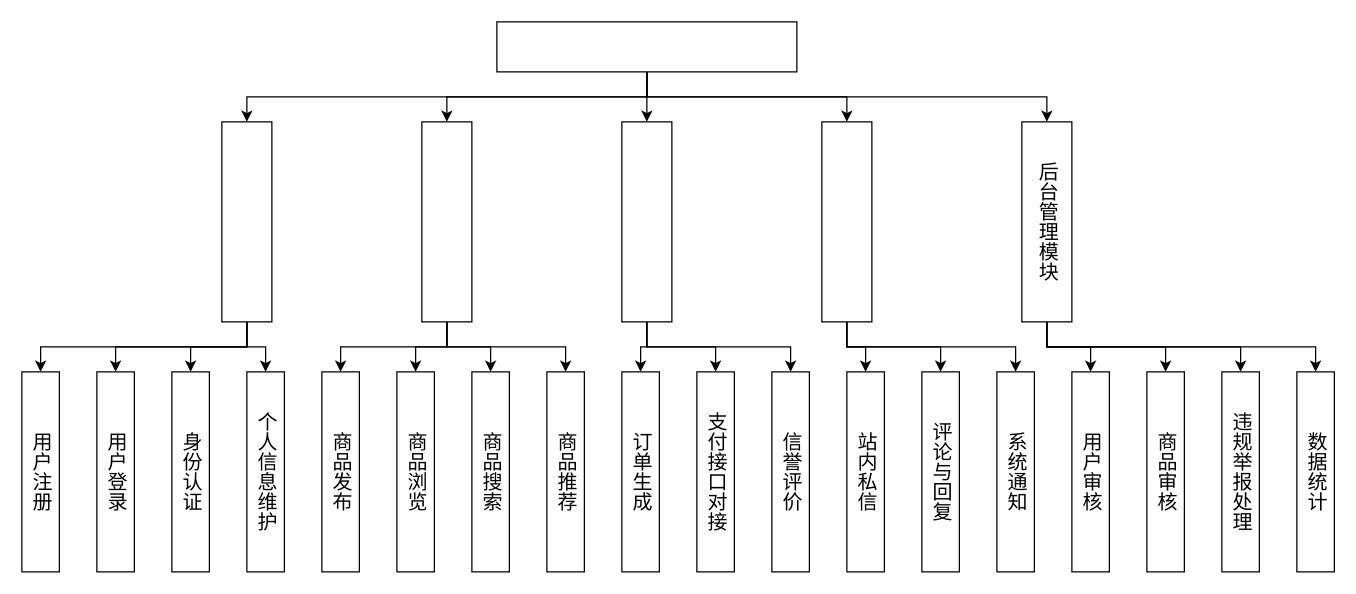
Image size: 1356x594. Some labels were removed from this diagram. The shapes that lost their labels are listed below. From the top down, each one's box as (x1, y1, x2, y2) in pixels, then its label:
(496, 21, 797, 72): 校园二手市场交易平台
(221, 121, 272, 322): 用户管理模块
(421, 121, 472, 322): 商品管理模块
(621, 121, 672, 322): 交易管理模块
(821, 121, 872, 322): 交流互动模块
